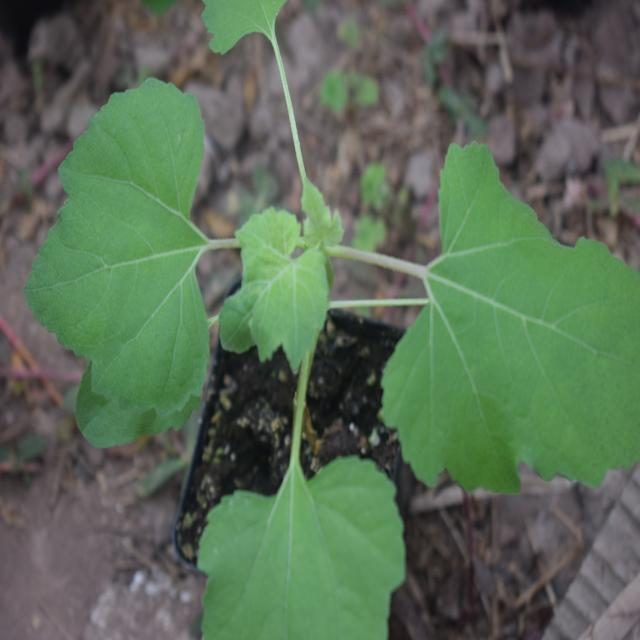cocklebur: (39, 26, 588, 600)
